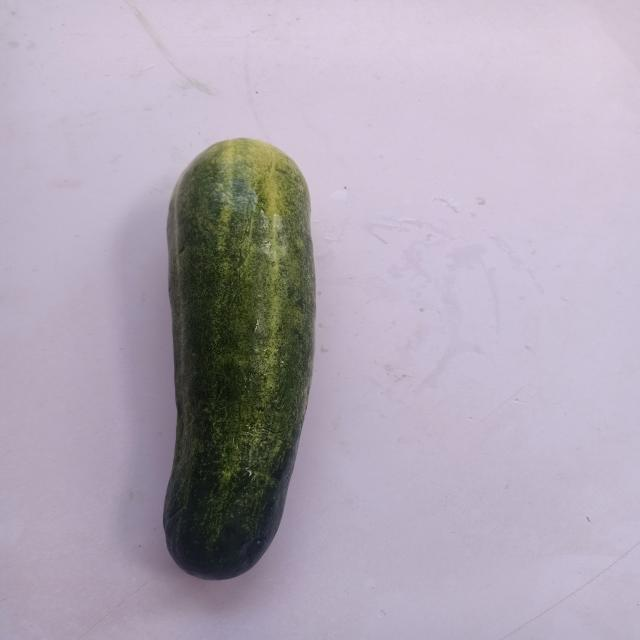Cucumber: (129, 121, 353, 604)
